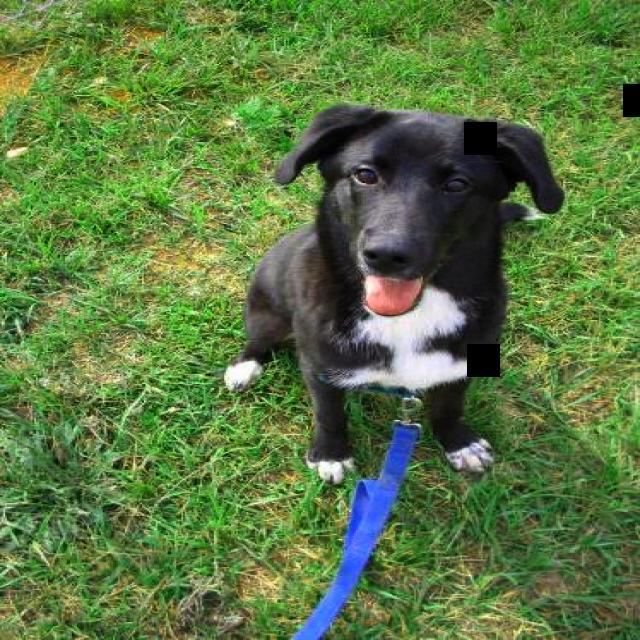puppy-dog: (224, 98, 568, 486)
